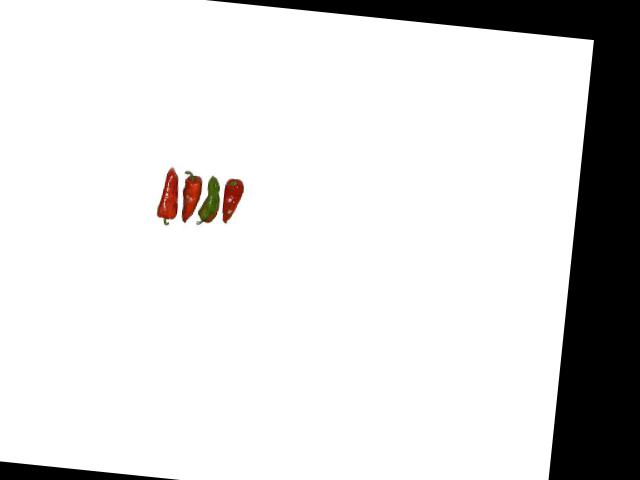bell_pepper: (219, 176, 250, 229)
